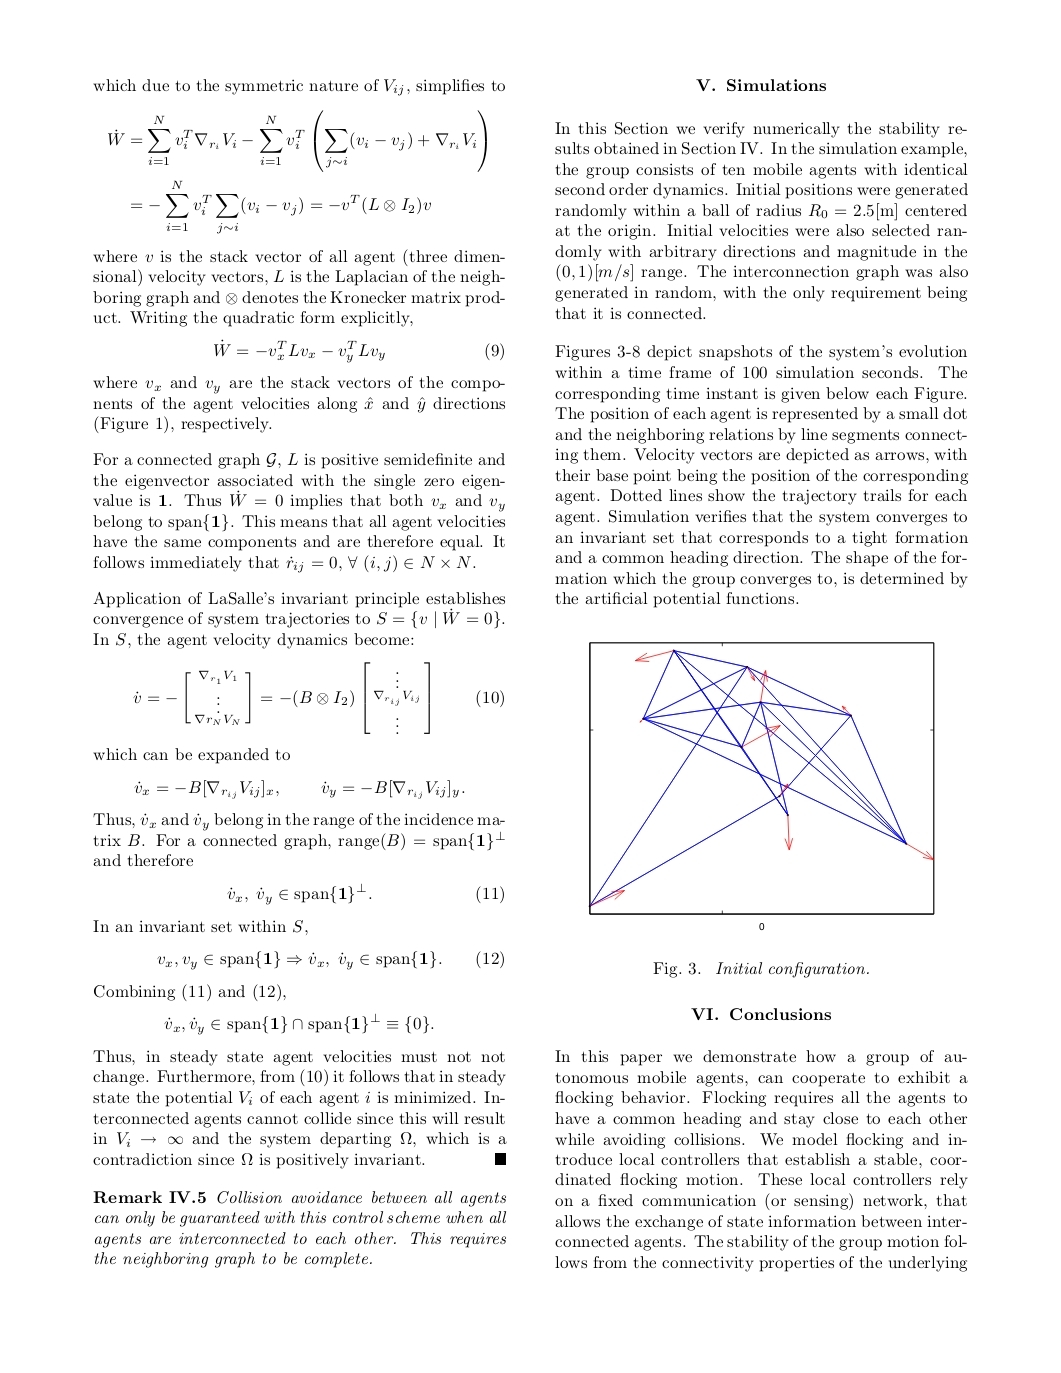figure: (588, 641, 934, 915)
formula: (133, 661, 503, 734), (108, 109, 486, 172), (132, 181, 430, 233), (214, 338, 503, 363), (157, 950, 503, 970), (134, 779, 464, 799), (227, 882, 503, 905), (164, 1012, 434, 1035)
